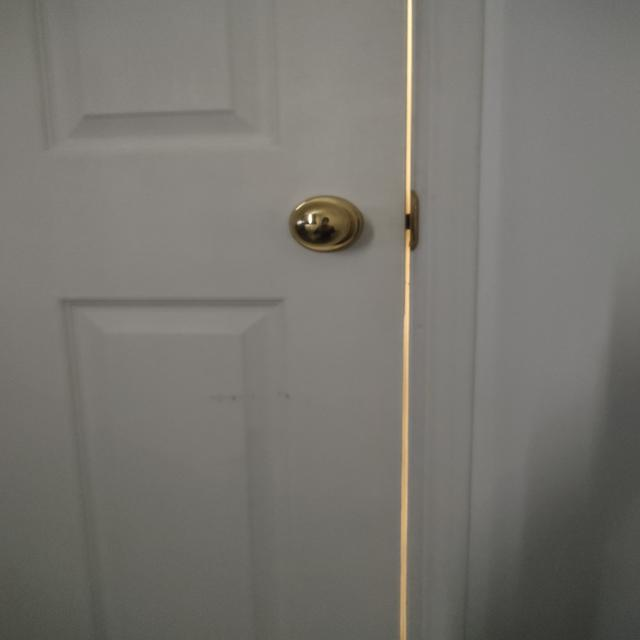door-knob: (289, 196, 364, 252)
